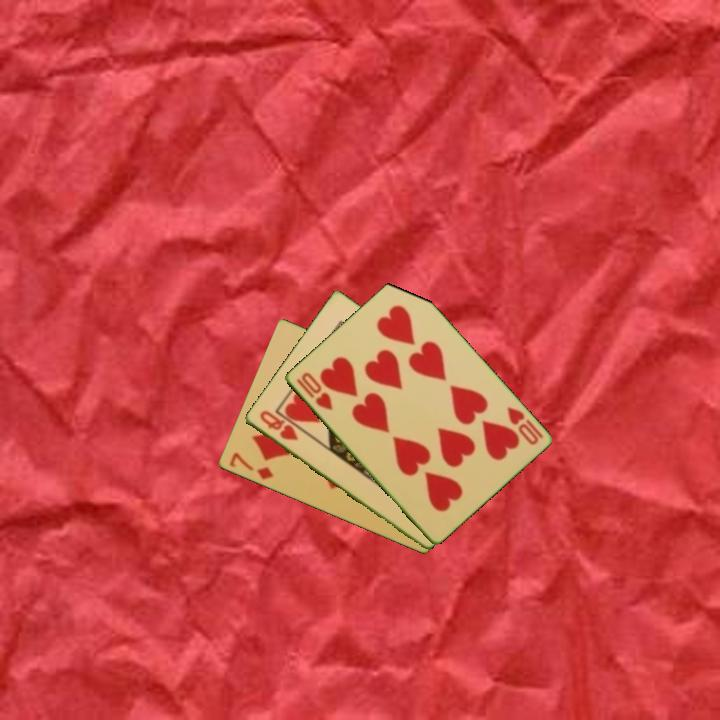10h: (503, 403, 546, 448), (292, 369, 335, 413)
7d: (225, 449, 277, 483)
Qh: (256, 407, 301, 444)
